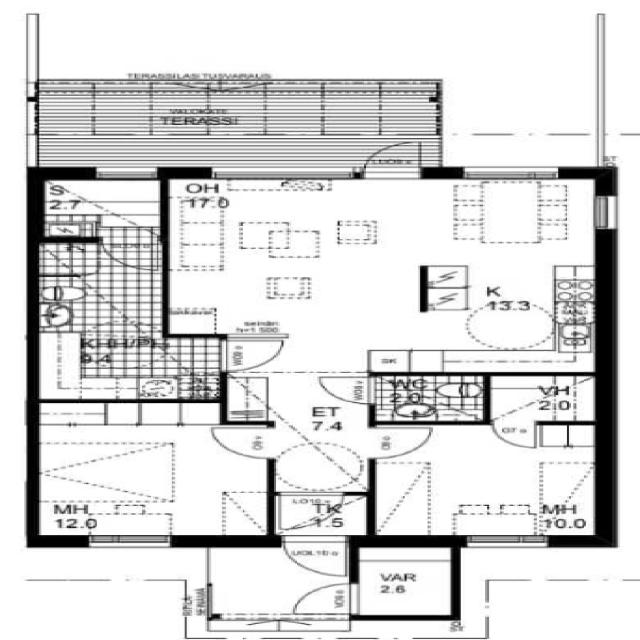door: (275, 534, 351, 580), (198, 422, 278, 461), (215, 334, 289, 374), (288, 580, 362, 620), (358, 138, 427, 178), (366, 424, 438, 459), (313, 373, 385, 407), (96, 236, 150, 272), (488, 420, 544, 451)
window: (208, 167, 352, 185), (452, 162, 569, 184), (75, 532, 185, 550), (458, 532, 556, 549), (587, 191, 622, 237), (91, 166, 157, 180)
zone: (156, 172, 615, 365), (32, 399, 272, 541), (368, 423, 604, 539), (28, 336, 226, 400), (354, 544, 454, 622), (35, 178, 165, 236), (370, 374, 488, 424), (485, 373, 602, 423)
